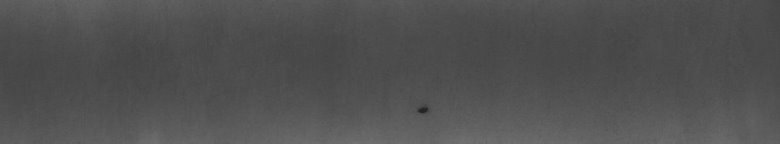fi: (417, 100, 429, 120)
